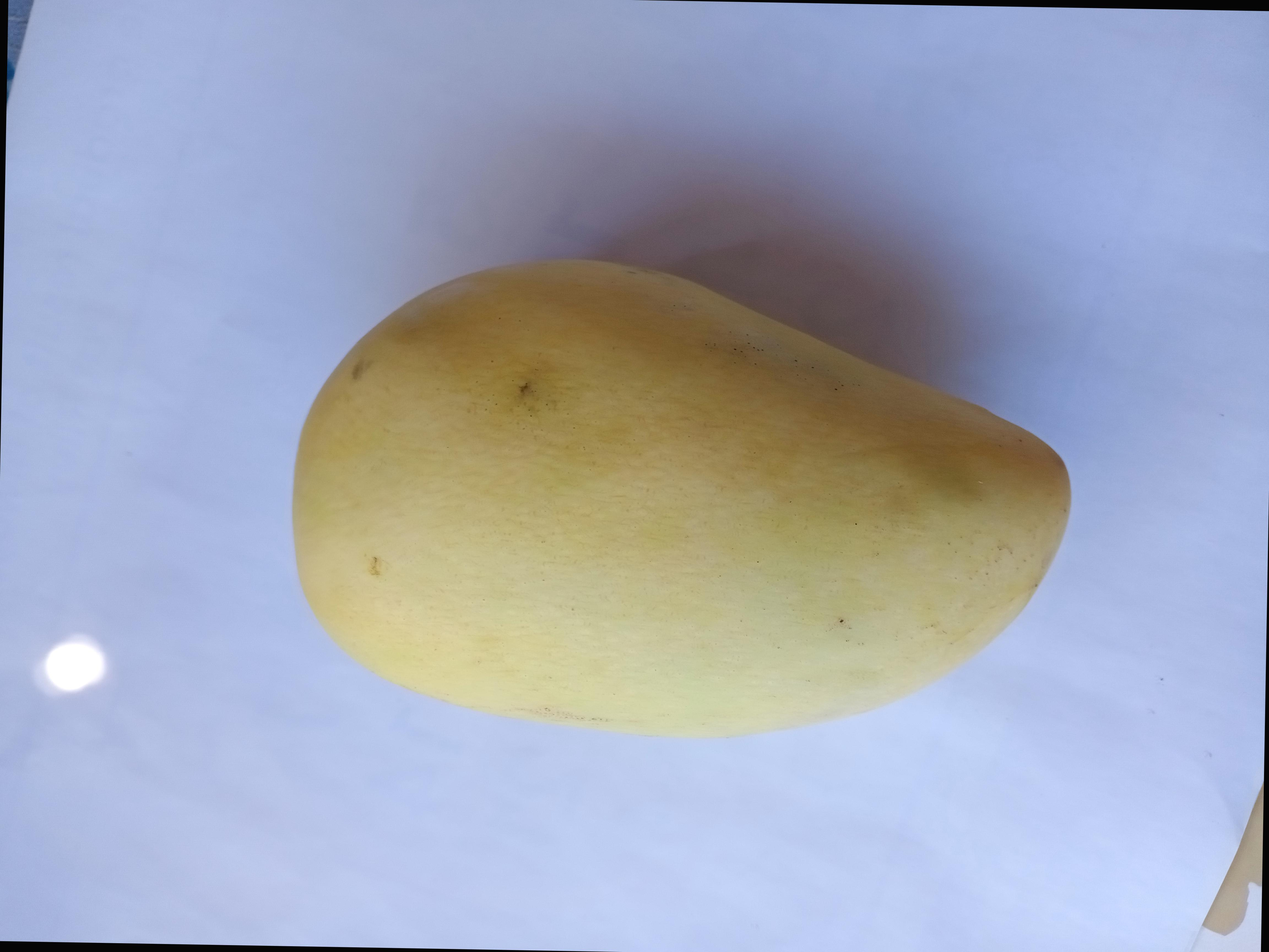Mango Ripe: (223, 194, 1119, 791)
